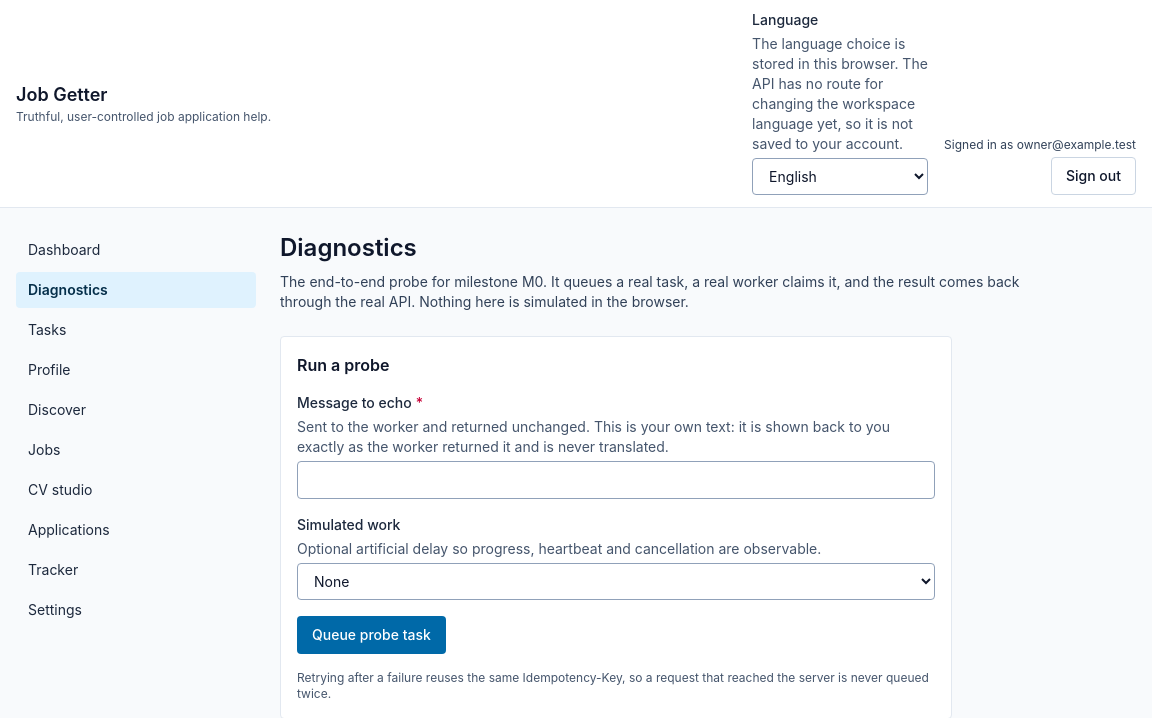
diagnostics screen › cancels through the API and reflects cancel_requested
Type "hola mundo" into the field labelled "Message to echo*" at (616, 480), box [297,461,935,499]
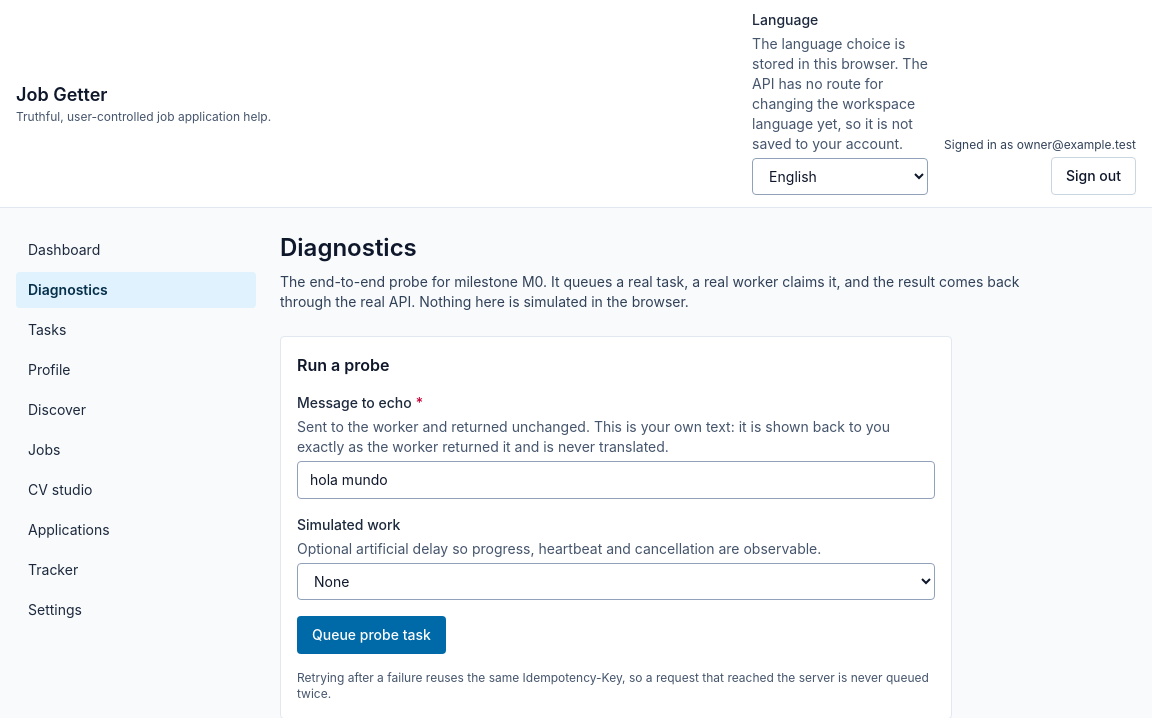
Click the button "Queue probe task" at (371, 635), box [297,616,446,654]
(page scrolled)
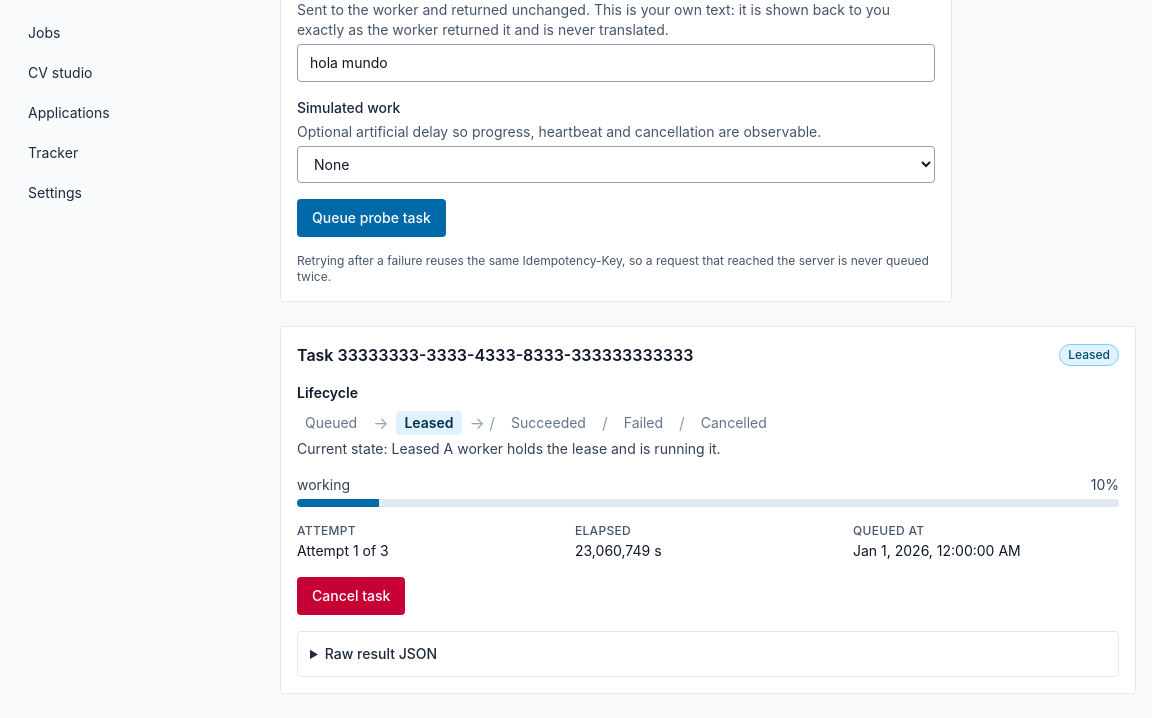
Click the button "Cancel task" at (351, 596), box [297,577,405,615]
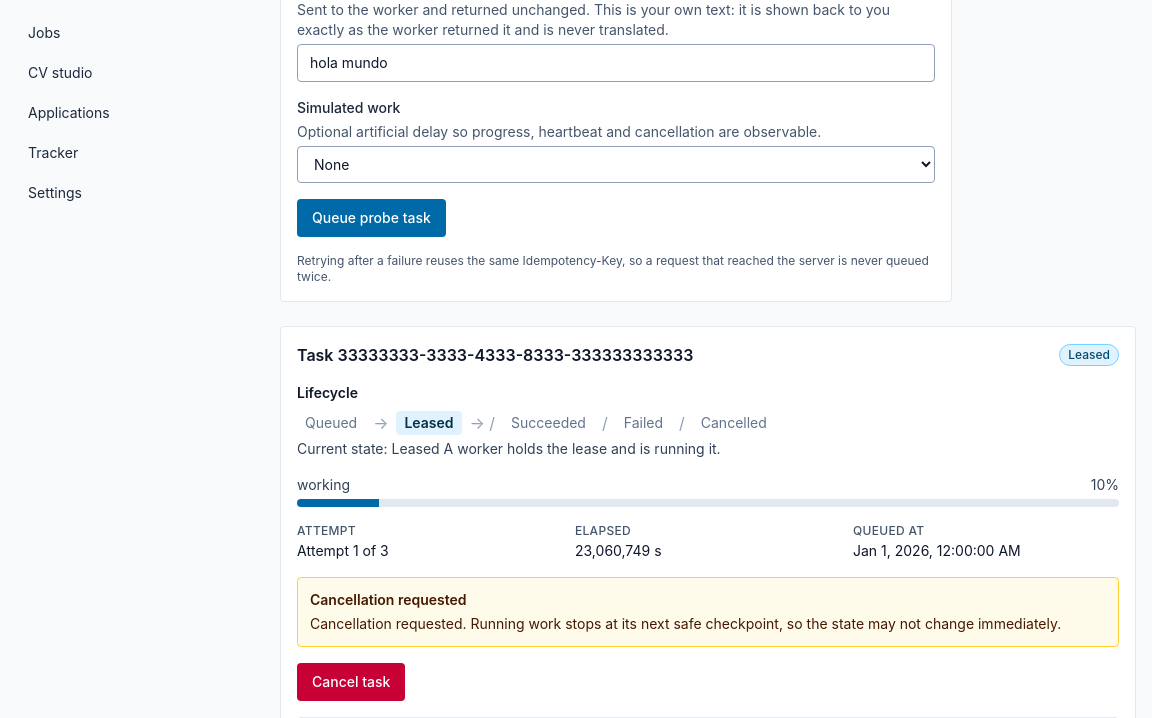
Now the text "Cancellation requested." is shown, box [310,615,1061,632]
